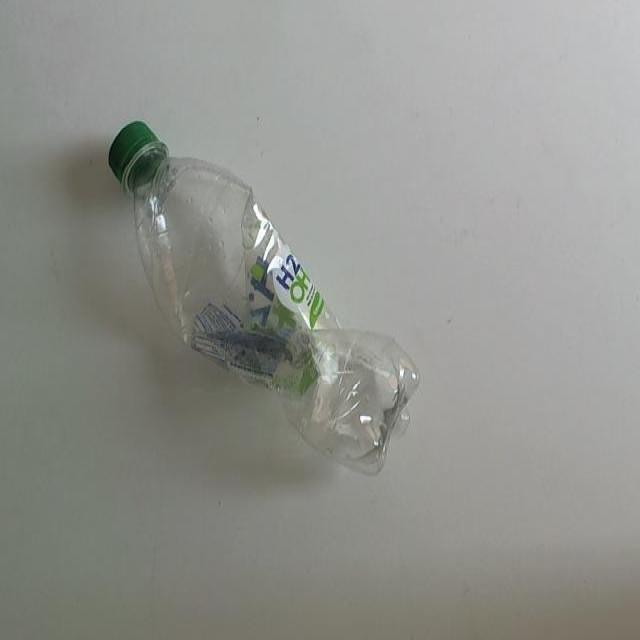defect: (104, 117, 423, 480)
